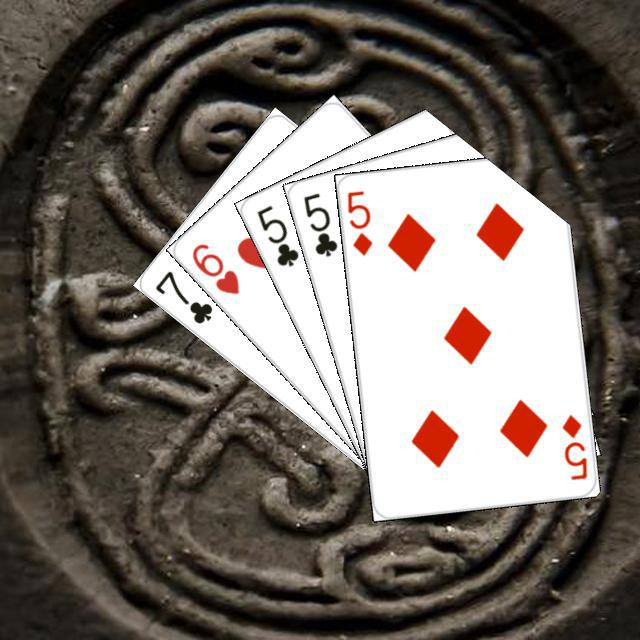5c: (252, 200, 301, 269), (298, 188, 340, 259)
5d: (342, 185, 374, 258), (557, 409, 589, 482)
6h: (186, 238, 241, 297)
7c: (150, 266, 215, 326)
